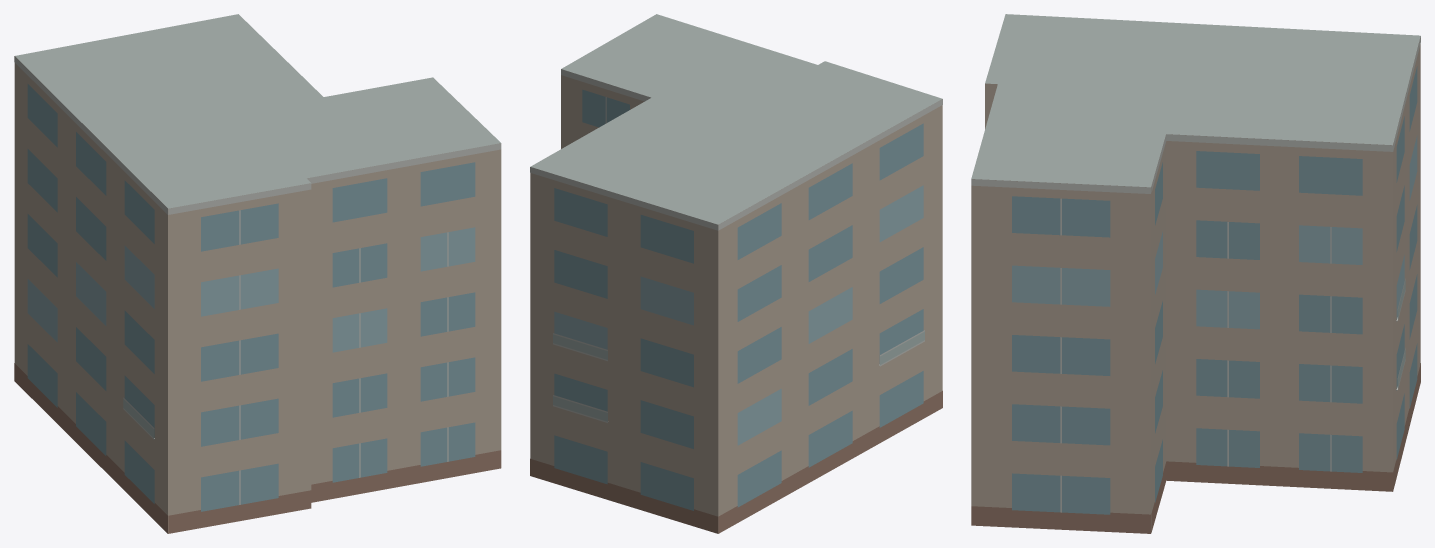
Rendered from survey-upis-32748840.glb.
3 views of the same model, side by side, from view 1: azimuth 30°, elevation 25°; view 2: azimuth 150°, elevation 25°; view 3: azimuth 270°, elevation 25° (orthographic). The views are drawn at different scales.
Visible parts, largest first — view 1: survey-upis-32748840.tmp; view 2: survey-upis-32748840.tmp; view 3: survey-upis-32748840.tmp.
Part boxes in pixels (x1,y1,x2,y2): survey-upis-32748840.tmp: (14,14,501,533); survey-upis-32748840.tmp: (530,14,942,533); survey-upis-32748840.tmp: (971,14,1420,533).
Size of the model in its own units: 13.42 by 12.5 by 14.71.
